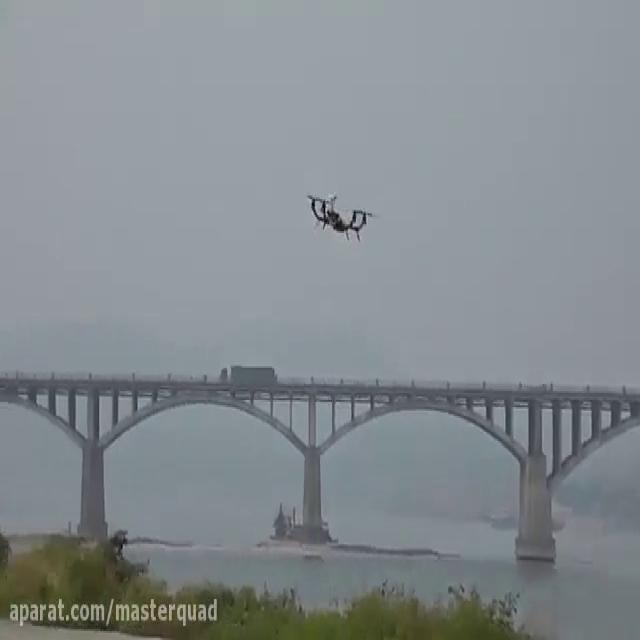drone: (302, 184, 377, 246)
